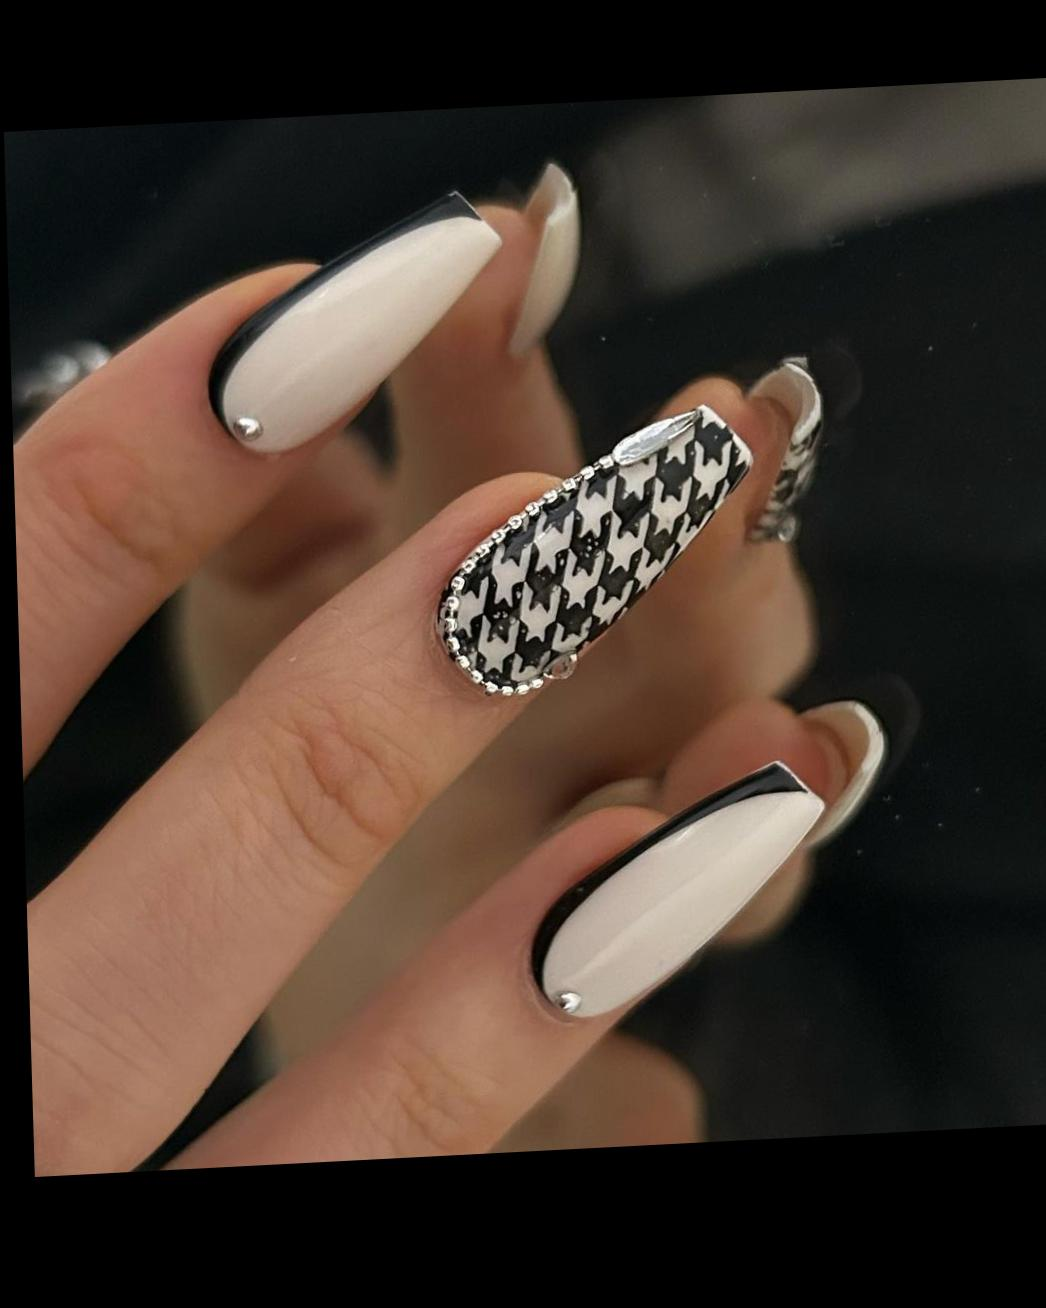nail: (202, 187, 512, 460), (525, 756, 835, 1024), (501, 160, 588, 361)
